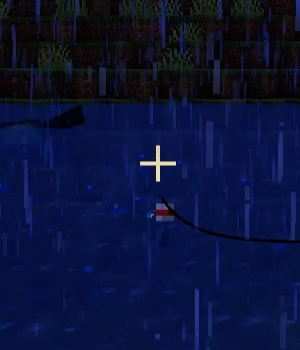up: (154, 194, 178, 222)
